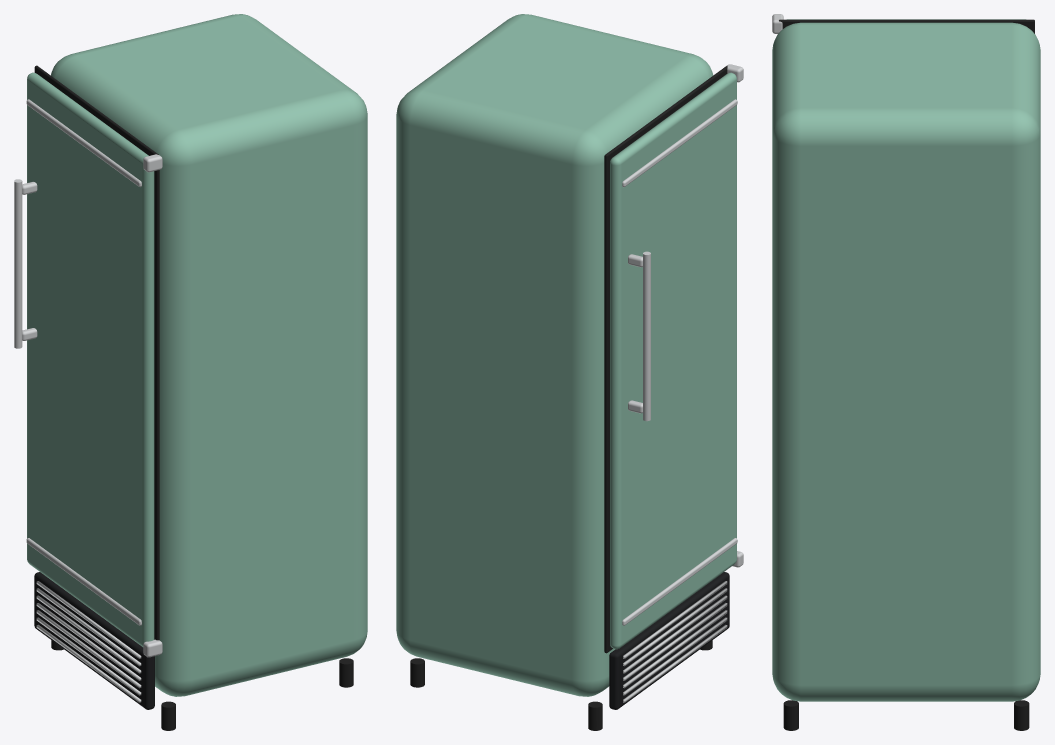
Rendered from ref_Geladeira.glb.
3 renders of one model, left to right at view 1: azimuth 30°, elevation 25°; view 2: azimuth 150°, elevation 25°; view 3: azimuth 270°, elevation 25°, orthographic. The views are drawn at different scales.
Visible parts, largest first — view 1: Geladeira_Corpo, Geladeira_Porta, Geladeira_Base, Geladeira_Vedacao, Geladeira_Puxador, Geladeira_Friso_Alto, Geladeira_Friso_Baixo; view 2: Geladeira_Corpo, Geladeira_Porta, Geladeira_Base, Geladeira_Vedacao, Geladeira_Puxador, Geladeira_Friso_Alto, Geladeira_Friso_Baixo; view 3: Geladeira_Corpo, Geladeira_Vedacao, Geladeira_Pe.002, Geladeira_Pe.003.
Part boxes in pixels (x1,y1,x2,y2): Geladeira_Corpo: (51, 14, 367, 696); Geladeira_Porta: (27, 72, 154, 646); Geladeira_Base: (34, 572, 154, 709); Geladeira_Vedacao: (34, 65, 159, 640); Geladeira_Puxador: (14, 179, 22, 348); Geladeira_Friso_Alto: (26, 99, 141, 186); Geladeira_Friso_Baixo: (26, 538, 141, 625); Geladeira_Corpo: (396, 14, 713, 696); Geladeira_Porta: (610, 72, 736, 649); Geladeira_Base: (609, 572, 729, 709); Geladeira_Vedacao: (604, 65, 727, 653); Geladeira_Puxador: (643, 251, 650, 421); Geladeira_Friso_Alto: (622, 99, 737, 187); Geladeira_Friso_Baixo: (622, 538, 737, 625); Geladeira_Corpo: (772, 22, 1040, 701); Geladeira_Vedacao: (779, 19, 1034, 33); Geladeira_Pe.002: (783, 700, 798, 730); Geladeira_Pe.003: (1014, 700, 1029, 730).
Size of the model in its own units: 0.786 by 1.78 by 0.7.
